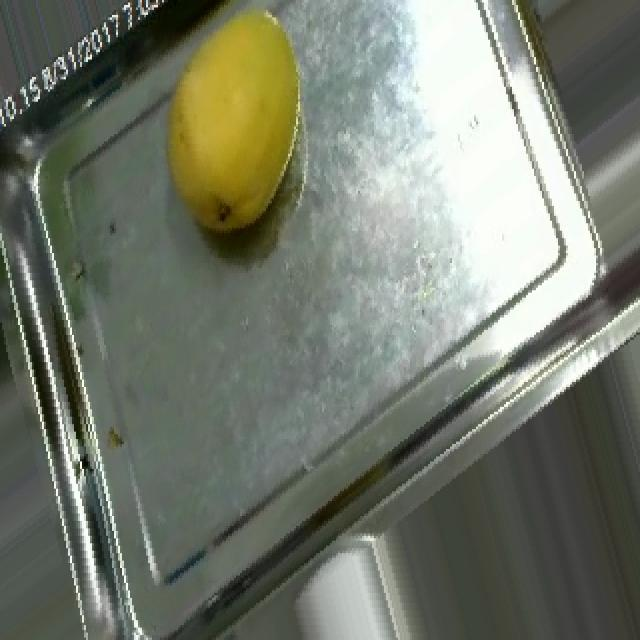fruit: (114, 0, 368, 273)
